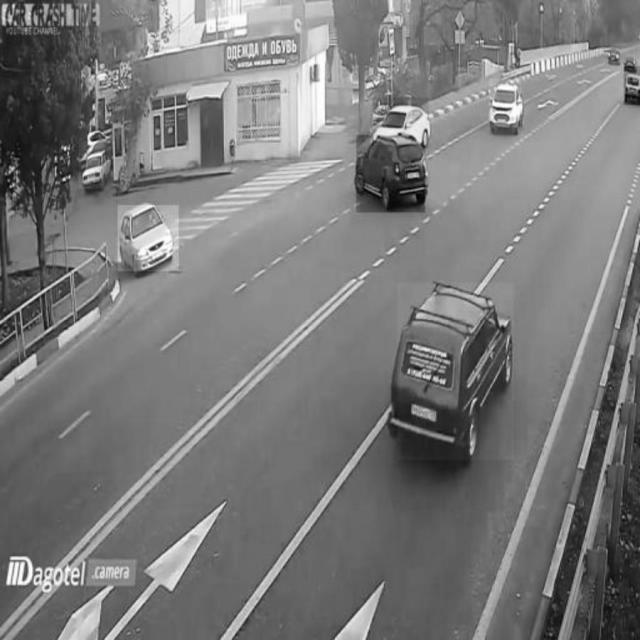vehicle: (398, 283, 514, 460), (356, 135, 424, 212), (118, 205, 179, 271), (374, 98, 429, 145), (79, 142, 115, 189), (490, 79, 522, 127), (624, 66, 640, 104)
